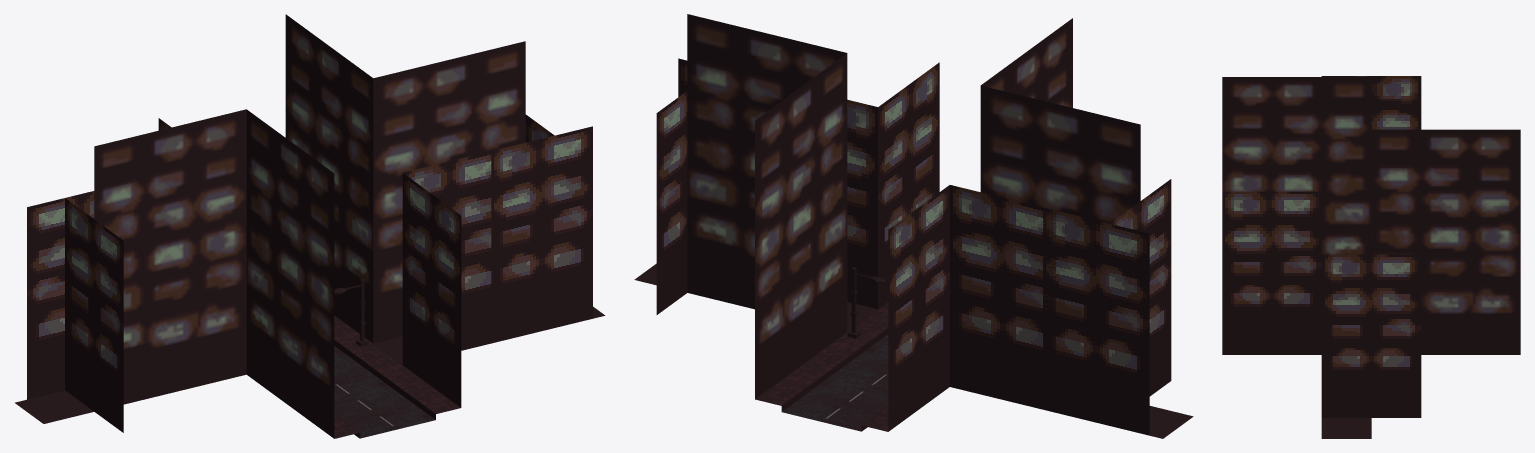
The model's file is Straight_3.fbx.
3 renders of one model, left to right at view 1: azimuth 30°, elevation 25°; view 2: azimuth 150°, elevation 25°; view 3: azimuth 270°, elevation 25°, orthographic. The views are drawn at different scales.
Visible parts, largest first — view 1: pPlane28, pPlane25, pPlane13, pPlane16, pPlane4, pPlane8, pPlane30, pPlane31, pPlane14, Road3, Road2, pPlane32 (+3 smaller); view 2: pPlane4, pPlane13, pPlane31, pPlane27, pPlane28, pPlane26, pPlane8, pPlane17, pPlane14, pPlane30, pPlane25, Road (+6 smaller); view 3: pPlane4, pPlane25, pPlane17, pPlane8, pPlane30, pPlane15.
Part boxes in pixels (x1,y1,x2,y2): pPlane28: (94, 109, 246, 404); pPlane25: (246, 109, 334, 438); pPlane13: (373, 41, 525, 343); pPlane16: (491, 126, 592, 343); pPlane4: (285, 14, 373, 343); pPlane8: (402, 173, 461, 407); pPlane30: (65, 198, 123, 432); pPlane31: (27, 191, 94, 399); pPlane14: (403, 151, 497, 350); Road3: (334, 388, 435, 438); Road2: (334, 356, 391, 401); pPlane32: (15, 390, 93, 423); pPlane4: (755, 53, 847, 399); pPlane13: (687, 14, 846, 309); pPlane31: (1043, 207, 1149, 435); pPlane27: (950, 185, 1056, 409); pPlane28: (980, 85, 1140, 223); pPlane26: (888, 185, 949, 431); pPlane8: (878, 62, 939, 308); pPlane17: (656, 91, 687, 314); pPlane14: (847, 99, 877, 309); pPlane30: (1110, 179, 1171, 396); pPlane25: (981, 18, 1072, 107); Road: (782, 378, 888, 431); pPlane4: (1371, 129, 1520, 354); pPlane25: (1222, 77, 1371, 254); pPlane17: (1321, 254, 1421, 417); pPlane8: (1222, 191, 1321, 354); pPlane30: (1321, 76, 1421, 129); pPlane15: (1321, 418, 1371, 438).
Bounding box in the file's own units: 42 × 20.44 × 24.
Materials: 6 (6 with a texture image).
